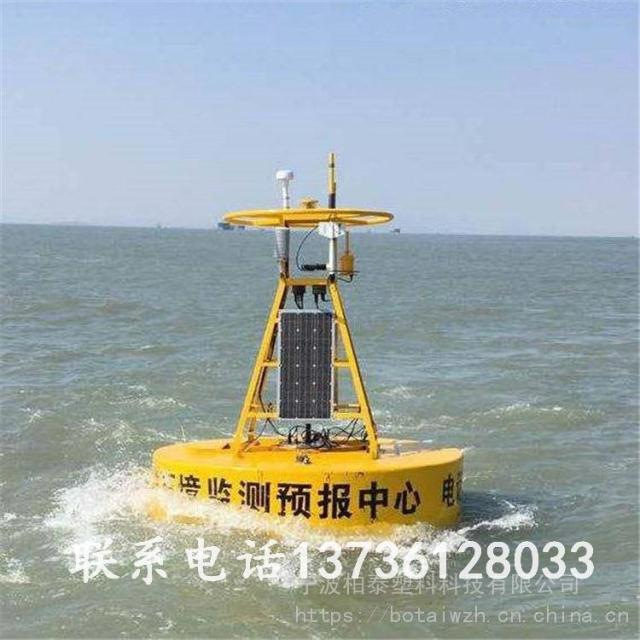buoy: (139, 151, 468, 544)
